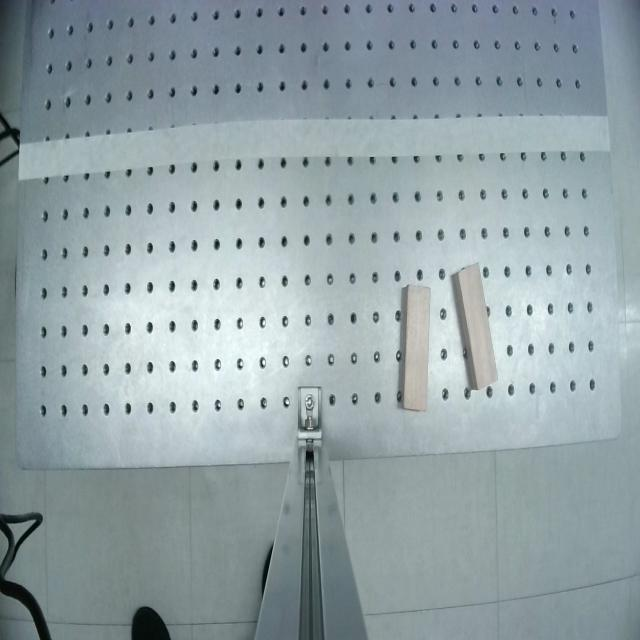wood: (452, 262, 500, 391), (401, 284, 431, 413)
